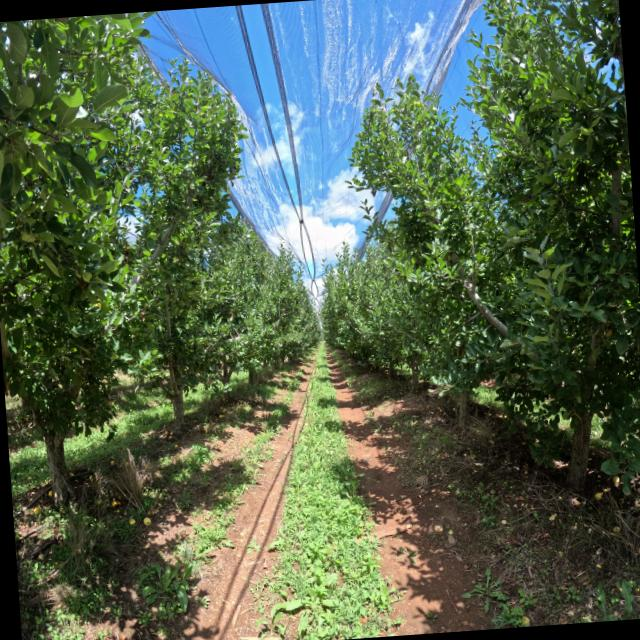-FireBlight-: (118, 239, 133, 267), (140, 302, 147, 321), (207, 374, 213, 386), (215, 362, 224, 369), (228, 310, 236, 317), (224, 356, 228, 360), (231, 354, 233, 359)
